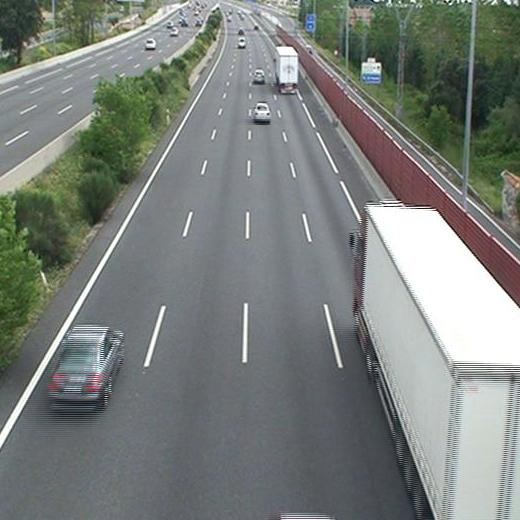car: (50, 324, 122, 396), (253, 102, 270, 121), (253, 69, 266, 83)
truck: (353, 203, 518, 520), (274, 48, 298, 92)
van: (237, 36, 247, 49)
